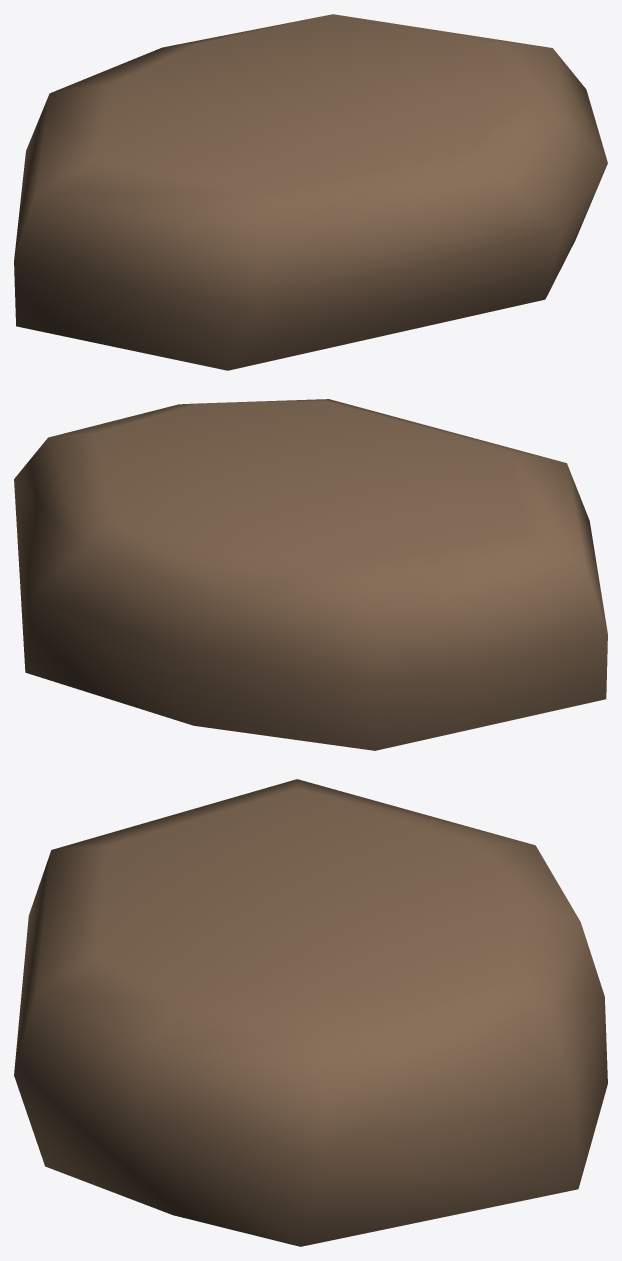
The model's file is Stone_03_A.fbx.
3 views of the same model, one above another, from view 1: azimuth 30°, elevation 25°; view 2: azimuth 150°, elevation 25°; view 3: azimuth 270°, elevation 25° (orthographic). The views are drawn at different scales.
Visible parts, largest first — view 1: Stone_03_A; view 2: Stone_03_A; view 3: Stone_03_A.
Boxes of the visible parts, x1,y1,x2,y2 form: Stone_03_A: (14,14,607,370); Stone_03_A: (14,399,607,750); Stone_03_A: (14,779,607,1246).
Bounding box in the file's own units: 2457 × 609 × 1812.
